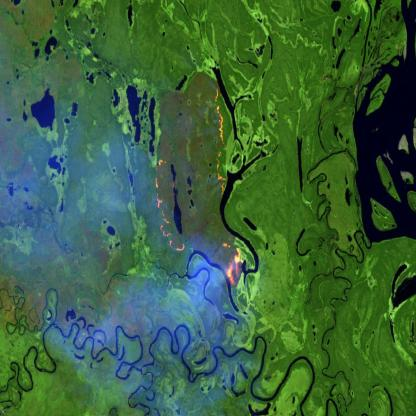fire: (152, 156, 188, 261), (223, 236, 247, 290)
